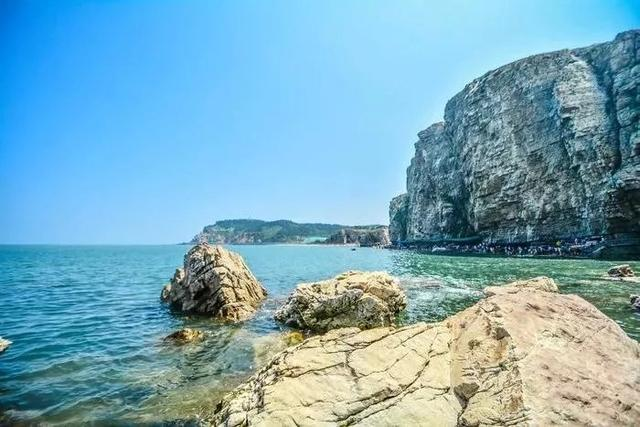mountain: (270, 280, 640, 420), (399, 61, 635, 251), (198, 215, 375, 250)
sea_river: (3, 252, 243, 406)
sky_cloud: (8, 55, 459, 224)
